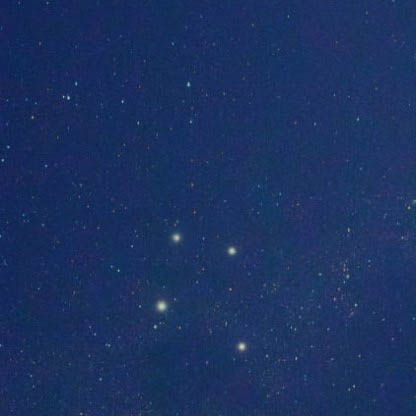Southern Cross: (152, 295, 171, 316), (235, 334, 254, 355), (224, 243, 244, 262), (164, 230, 187, 245)
